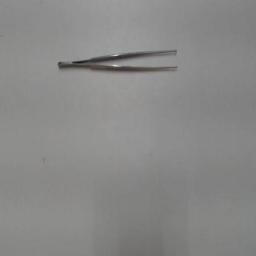Gillies Toothed Dissector: (55, 46, 181, 80)
